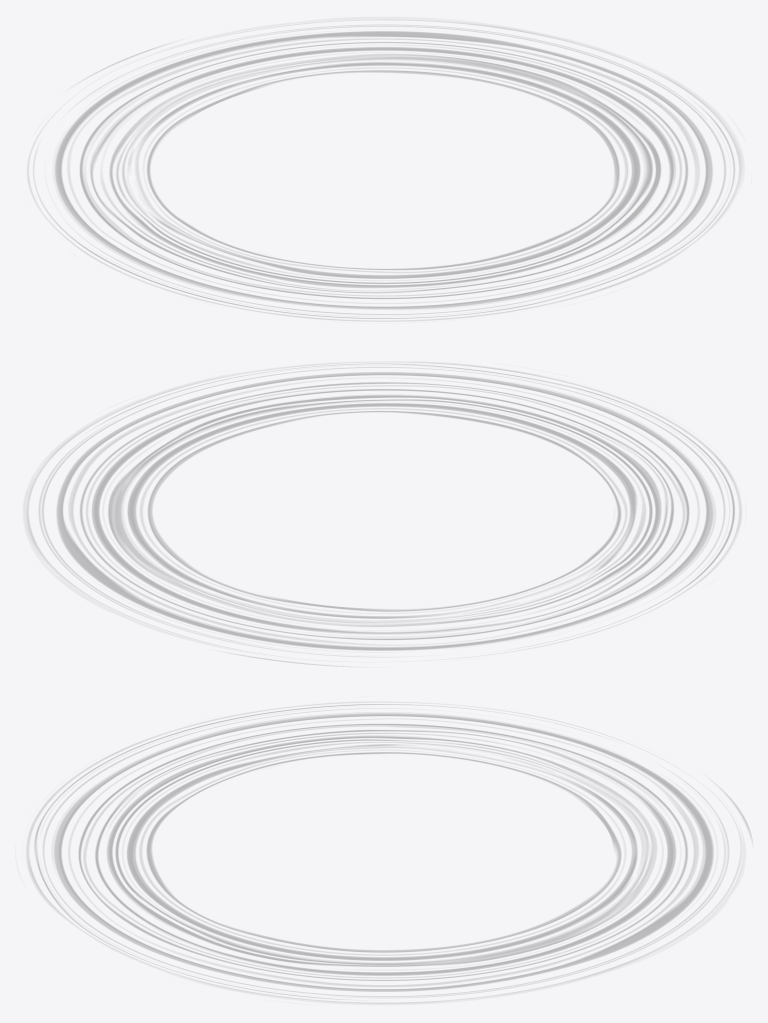
File: Prop_PlanetRings.gltf
The picture shows the model from 3 angles, top to bottom: view 1: azimuth 30°, elevation 25°; view 2: azimuth 150°, elevation 25°; view 3: azimuth 270°, elevation 25°; orthographic projection.
Parts seen in each view (by area): view 1: Prop_PlanetRings; view 2: Prop_PlanetRings; view 3: Prop_PlanetRings.
Part boxes in pixels (x1,y1,x2,y2): Prop_PlanetRings: (52, 24, 738, 319); Prop_PlanetRings: (27, 364, 739, 665); Prop_PlanetRings: (29, 704, 750, 1002).
Size of the model in its own units: 361 by 5.88e-05 by 361.
1 material, 1 textured.
